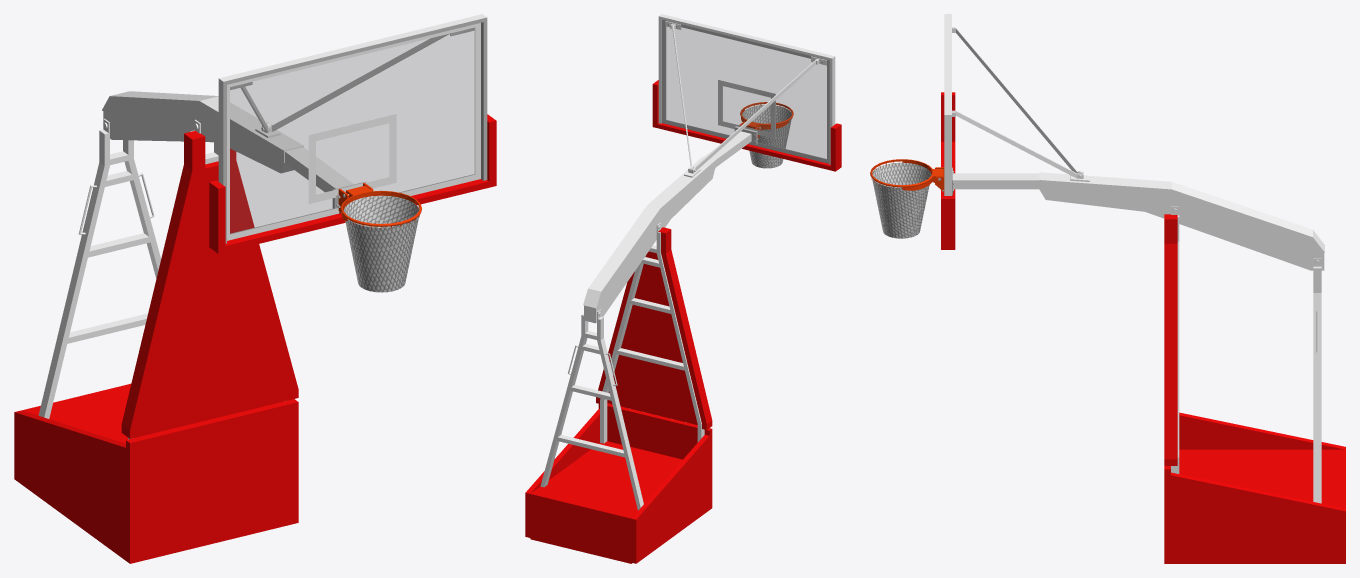
Rendered from basketball_goal_portable.obj.
The picture shows the model from 3 angles, left to right: view 1: azimuth 30°, elevation 25°; view 2: azimuth 150°, elevation 25°; view 3: azimuth 270°, elevation 25°; orthographic projection. The views are drawn at different scales.
Parts seen in each view (by area): view 1: Mesh47 Group38 Component_35_1 Model, Mesh35 Group23 Group17 Model, Mesh31 Group19 Group18 Group17 Model, Mesh32 Group20 Group18 Group17 Model, Mesh30 Group16 Model, Mesh38 Group29 Group28 Model, Mesh13 Group3 Group2 Model, Mesh49 Group39 Component_35_1 Model, Mesh46 Group37 Component_35_1 Model, Mesh34 Group22 Group18 Group17 Model, Mesh45 Group36 Component_35_1 Model, Mesh29 Group15 Model (+2 smaller); view 2: Mesh48 Group38 Component_35_1 Model, Mesh34 Group22 Group18 Group17 Model, Mesh35 Group23 Group17 Model, Mesh32 Group20 Group18 Group17 Model, Mesh30 Group16 Model, Mesh38 Group29 Group28 Model, Mesh31 Group19 Group18 Group17 Model, Mesh37 Group27 Group26 Group24 Model, Mesh49 Group39 Component_35_1 Model, Mesh46 Group37 Component_35_1 Model, Mesh33 Group21 Group18 Group17 Model, Mesh13 Group3 Group2 Model (+3 smaller); view 3: Mesh33 Group21 Group18 Group17 Model, Mesh30 Group16 Model, Mesh34 Group22 Group18 Group17 Model, Mesh35 Group23 Group17 Model, Mesh32 Group20 Group18 Group17 Model, Mesh13 Group3 Group2 Model, Mesh38 Group29 Group28 Model, Mesh29 Group15 Model, Mesh49 Group39 Component_35_1 Model, Mesh46 Group37 Component_35_1 Model, Mesh37 Group27 Group26 Group24 Model, Mesh43 Group34 Model (+2 smaller).
Part boxes in pixels (x1,y1,x2,y2): Mesh47 Group38 Component_35_1 Model: [227, 23, 480, 240]; Mesh35 Group23 Group17 Model: [121, 130, 298, 438]; Mesh31 Group19 Group18 Group17 Model: [126, 399, 298, 563]; Mesh32 Group20 Group18 Group17 Model: [14, 410, 125, 560]; Mesh30 Group16 Model: [102, 91, 303, 173]; Mesh38 Group29 Group28 Model: [38, 118, 160, 418]; Mesh13 Group3 Group2 Model: [343, 195, 419, 292]; Mesh49 Group39 Component_35_1 Model: [218, 14, 487, 243]; Mesh46 Group37 Component_35_1 Model: [209, 114, 496, 253]; Mesh34 Group22 Group18 Group17 Model: [22, 383, 130, 443]; Mesh45 Group36 Component_35_1 Model: [308, 113, 396, 203]; Mesh29 Group15 Model: [285, 147, 353, 192]; Mesh48 Group38 Component_35_1 Model: [662, 19, 829, 163]; Mesh34 Group22 Group18 Group17 Model: [530, 441, 682, 563]; Mesh35 Group23 Group17 Model: [596, 227, 712, 429]; Mesh32 Group20 Group18 Group17 Model: [631, 435, 709, 563]; Mesh30 Group16 Model: [583, 156, 715, 323]; Mesh38 Group29 Group28 Model: [540, 309, 643, 510]; Mesh31 Group19 Group18 Group17 Model: [598, 403, 712, 509]; Mesh37 Group27 Group26 Group24 Model: [600, 222, 704, 443]; Mesh49 Group39 Component_35_1 Model: [658, 14, 835, 164]; Mesh46 Group37 Component_35_1 Model: [652, 80, 841, 171]; Mesh33 Group21 Group18 Group17 Model: [525, 409, 599, 537]; Mesh13 Group3 Group2 Model: [742, 105, 791, 168]; Mesh33 Group21 Group18 Group17 Model: [1171, 472, 1345, 563]; Mesh30 Group16 Model: [1039, 172, 1324, 270]; Mesh34 Group22 Group18 Group17 Model: [1179, 449, 1345, 508]; Mesh35 Group23 Group17 Model: [1164, 214, 1177, 465]; Mesh32 Group20 Group18 Group17 Model: [1179, 412, 1345, 449]; Mesh13 Group3 Group2 Model: [872, 162, 931, 238]; Mesh38 Group29 Group28 Model: [1313, 258, 1321, 503]; Mesh29 Group15 Model: [953, 173, 1039, 189]; Mesh49 Group39 Component_35_1 Model: [944, 14, 951, 195]; Mesh46 Group37 Component_35_1 Model: [941, 92, 955, 249]; Mesh37 Group27 Group26 Group24 Model: [1171, 206, 1179, 473]; Mesh43 Group34 Model: [952, 27, 1083, 172].
Size of the model in its own units: 76 by 156 by 143.
Materials: 8 (1 with a texture image).
